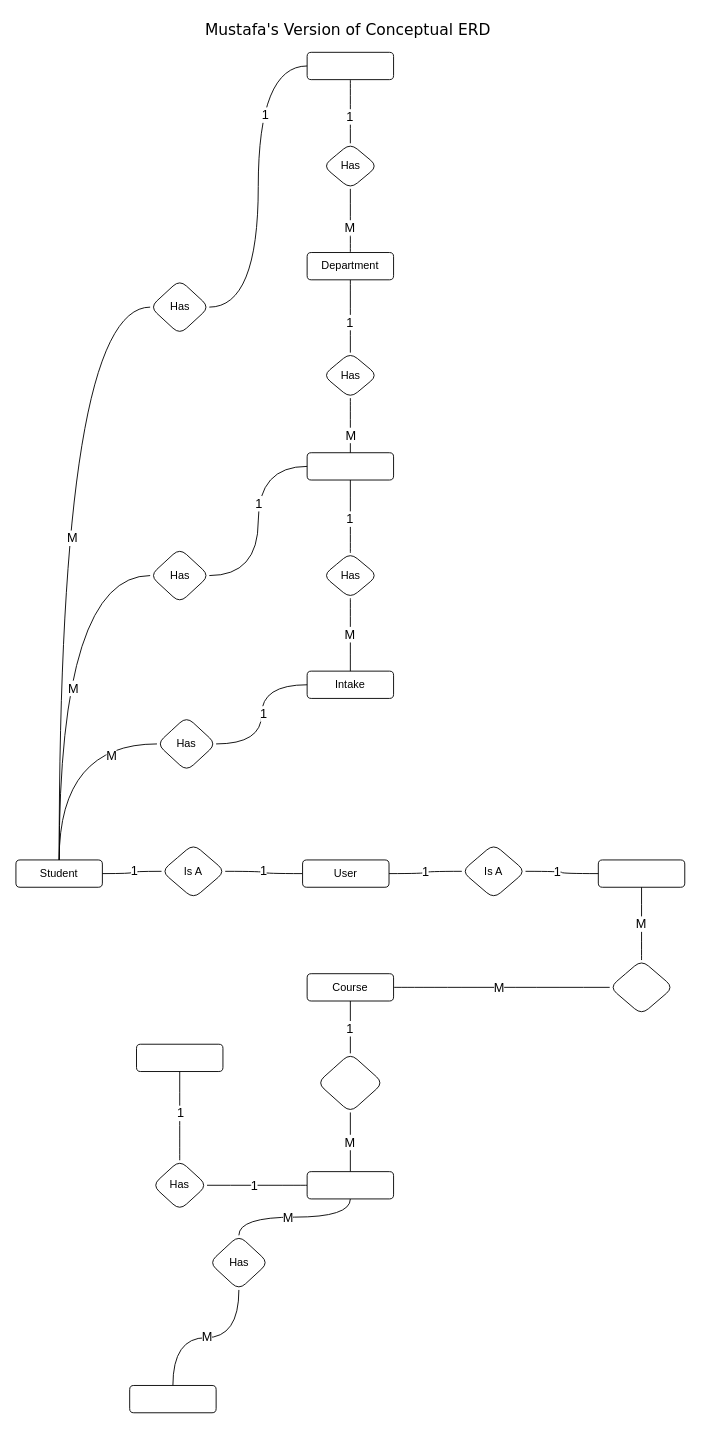
Image size: 701x1429. Some labels were removed from this diagram. Each missing label, with the box of its shape:
Answer: (136, 1043, 223, 1072)
Branch: (306, 51, 394, 80)
Contains: (316, 1052, 383, 1112)
Exam: (129, 1385, 216, 1413)
Instructor: (597, 859, 685, 887)
Question: (306, 1171, 394, 1199)
Teaches: (609, 959, 673, 1015)
Track: (306, 452, 394, 480)
